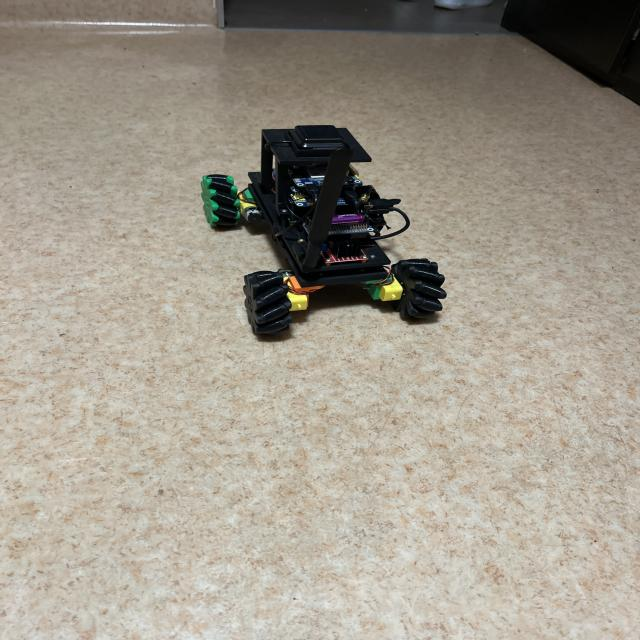robot: (201, 126, 446, 335)
